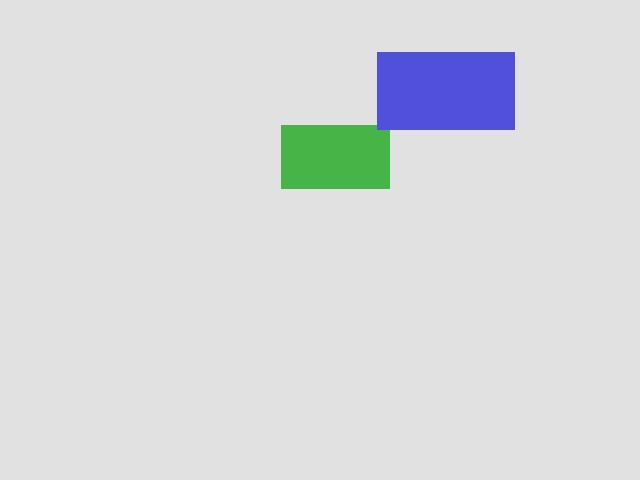tall_box: (377, 52, 514, 129)
wide_box: (281, 125, 389, 188)
